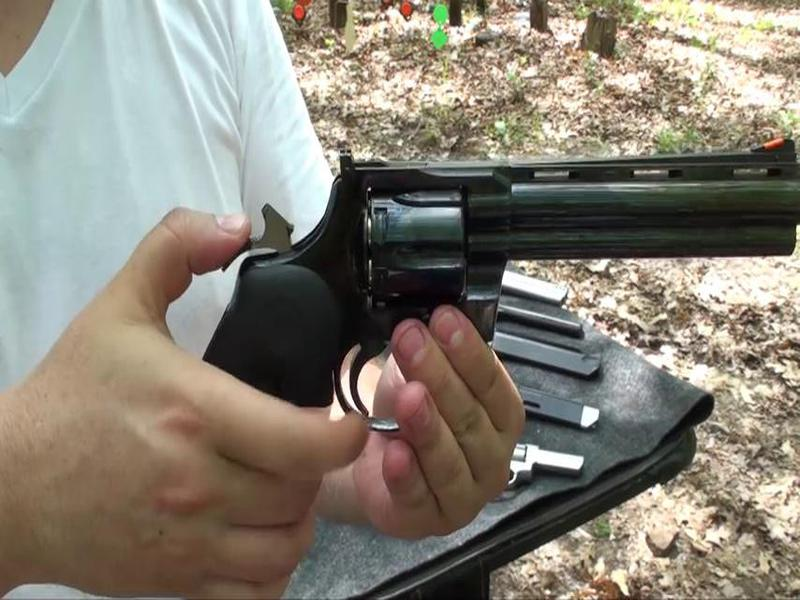Revolver: (232, 137, 796, 403)
